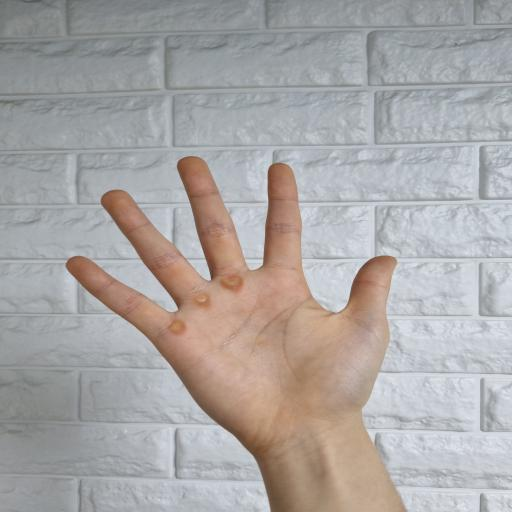Paper: (65, 156, 407, 512)
